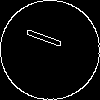I: (25, 25, 73, 54)
